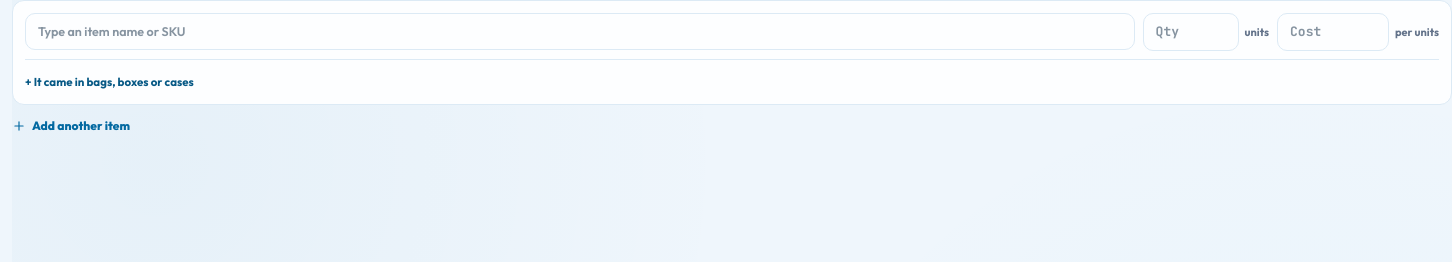
Test: the rows themselves › adds another row on request
Step 1. Click the button "Add another item" → (71,126), box [12,118,130,134]
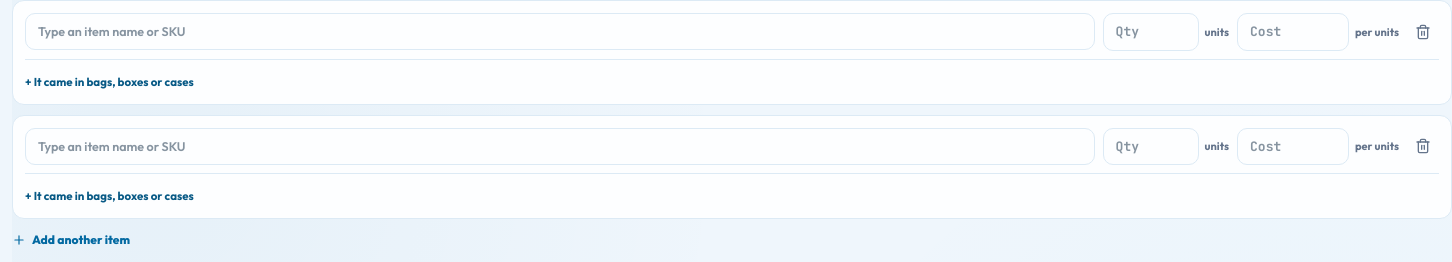
Now the number of fields with placeholder "Type an item name or SKU" is 2, box [25,13,1095,50]; [25,128,1095,165]
